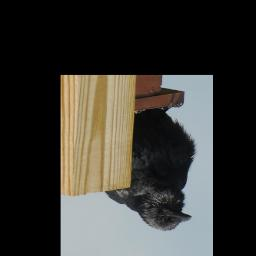Crow: (106, 103, 198, 232)
